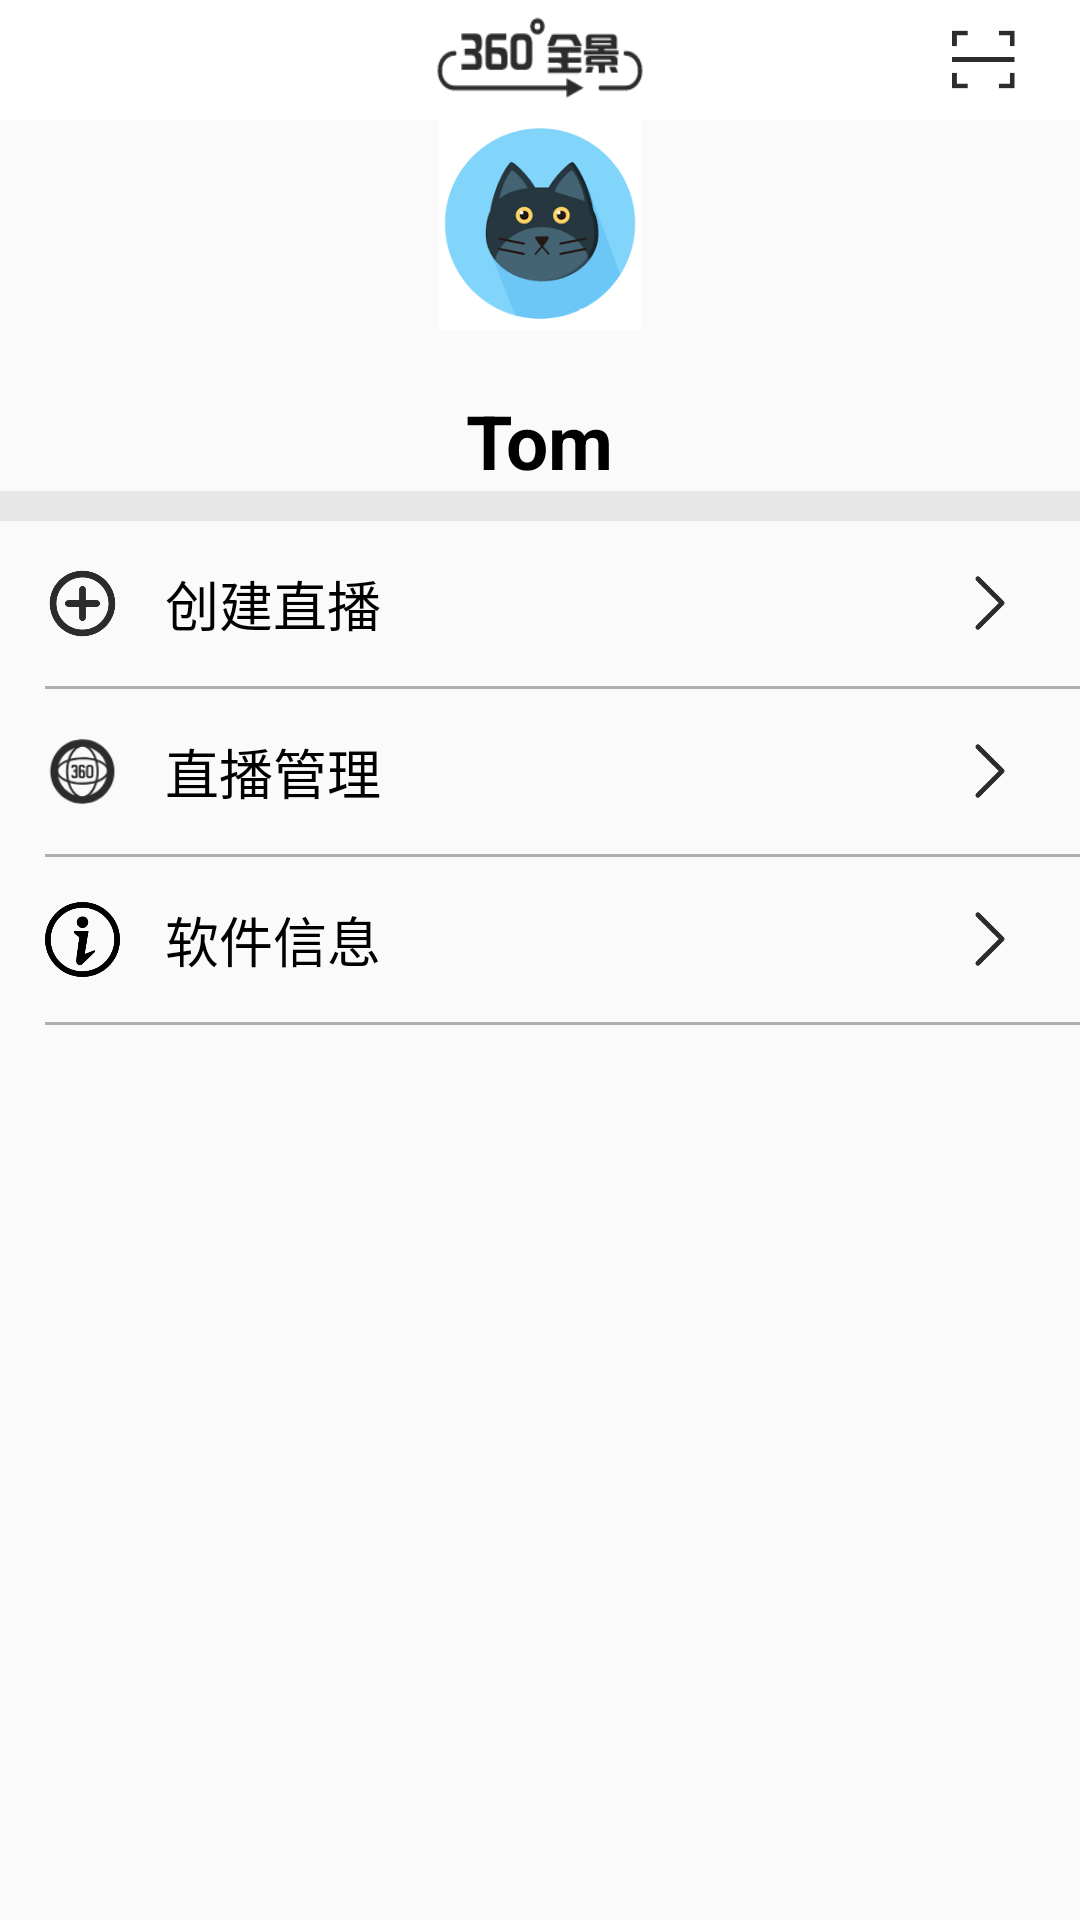

Icons on this 1080px x 1920px Android screen, each with the point to tap as point (x, y):
avtar: point (540, 223)
live publish: point (82, 603)
misc arrow: point (990, 603), point (990, 771), point (990, 939)
qr code scan: point (983, 59)
